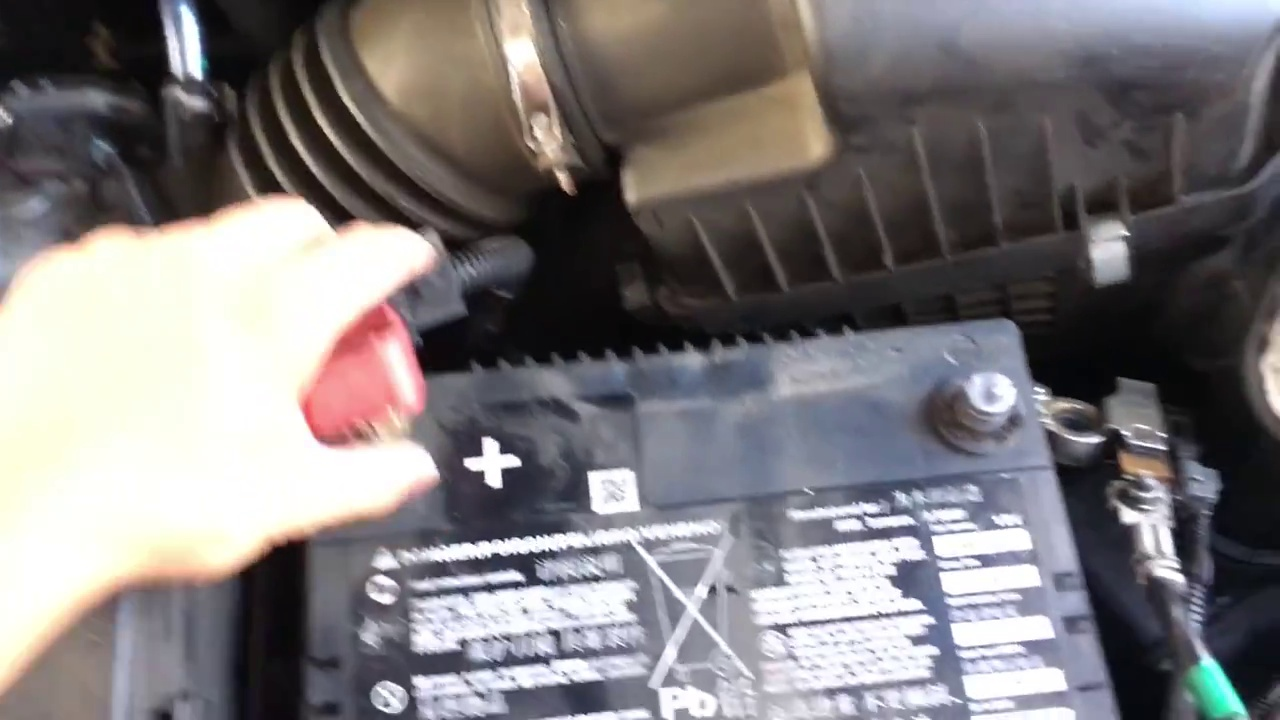battery: (299, 278, 1125, 720)
neg_disconnected: (925, 327, 1224, 558)
pos_touched: (266, 239, 488, 546)
